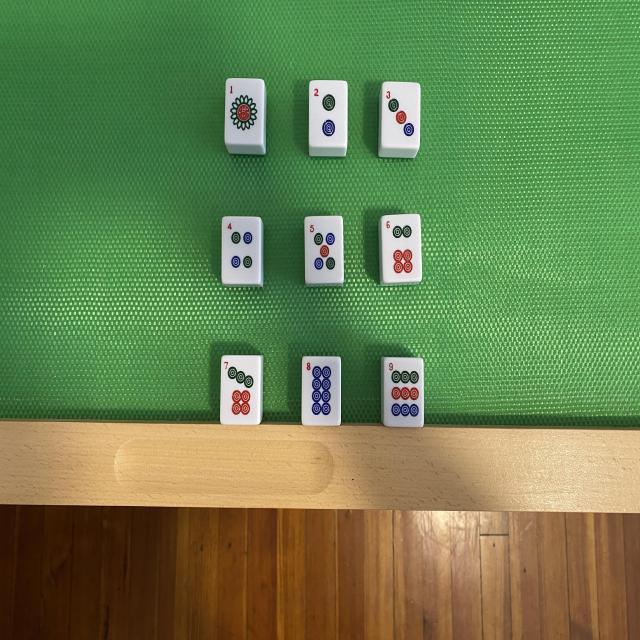sd1: (227, 78, 264, 144)
sd2: (310, 82, 347, 146)
sd3: (383, 82, 420, 146)
sd4: (222, 217, 260, 283)
sd5: (306, 216, 344, 282)
sd6: (382, 218, 422, 280)
sd7: (220, 356, 260, 423)
sd8: (302, 357, 340, 425)
sd9: (384, 359, 422, 426)
